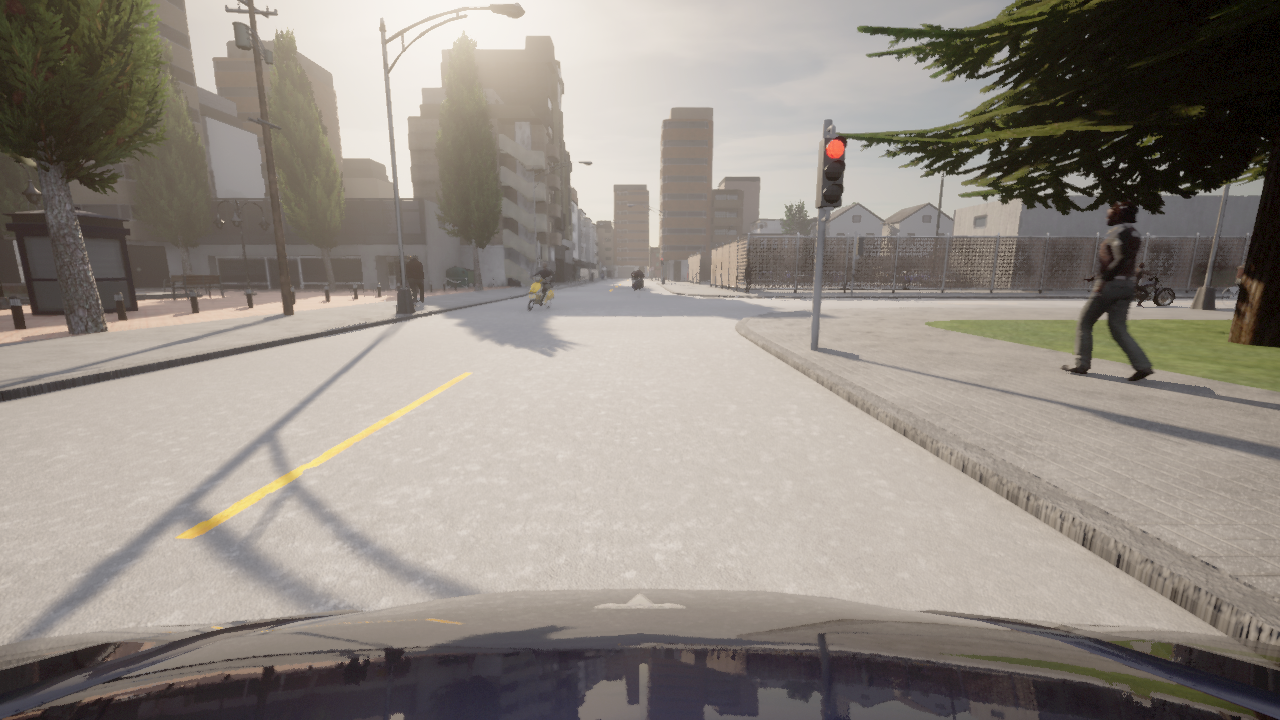cyclist: (0, 588, 1279, 719), (1133, 275, 1175, 306), (527, 270, 554, 311), (870, 267, 898, 283), (912, 269, 940, 283), (1222, 284, 1239, 306), (781, 271, 813, 282), (823, 270, 847, 282), (752, 266, 772, 280), (899, 271, 917, 282), (791, 273, 810, 283), (632, 274, 641, 290), (640, 275, 643, 286), (935, 271, 940, 273)
pedestrian: (1058, 201, 1155, 381), (405, 253, 425, 306), (744, 260, 751, 293), (405, 254, 411, 288)
